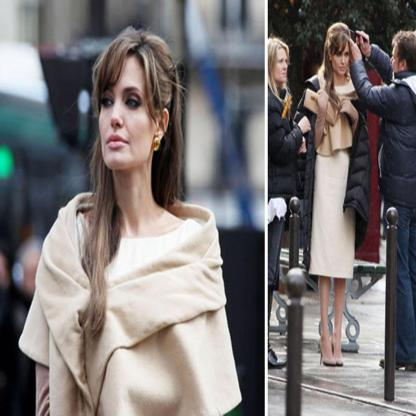face: (100, 54, 155, 169), (334, 38, 350, 77), (391, 44, 407, 76), (274, 50, 289, 83)
